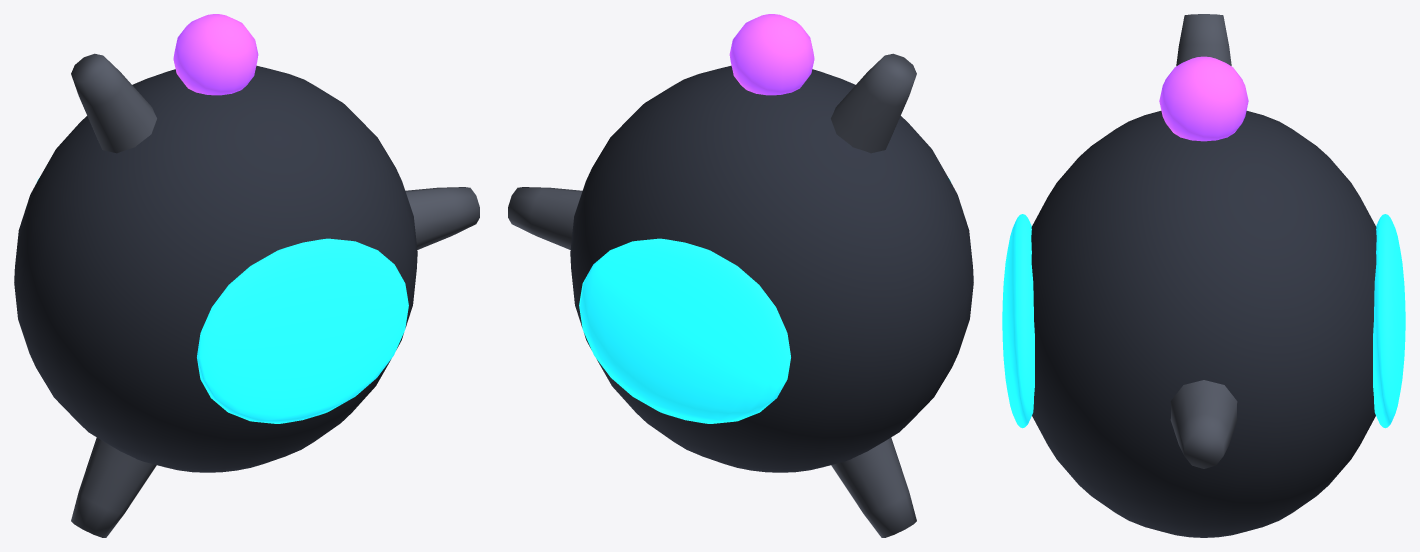
The model's file is moth_stationary_bomb.glb.
3 renders of one model, left to right at view 1: azimuth 30°, elevation 25°; view 2: azimuth 150°, elevation 25°; view 3: azimuth 270°, elevation 25°, orthographic. The views are drawn at different scales.
Visible parts, largest first — view 1: AlienControlDeviceGeometry; view 2: AlienControlDeviceGeometry; view 3: AlienControlDeviceGeometry.
Boxes of the visible parts, x1,y1,x2,y2 form: AlienControlDeviceGeometry: [14, 14, 479, 537]; AlienControlDeviceGeometry: [508, 14, 973, 537]; AlienControlDeviceGeometry: [1002, 14, 1405, 537].
Size of the model in its own units: 0.41 by 0.4408 by 0.316.
